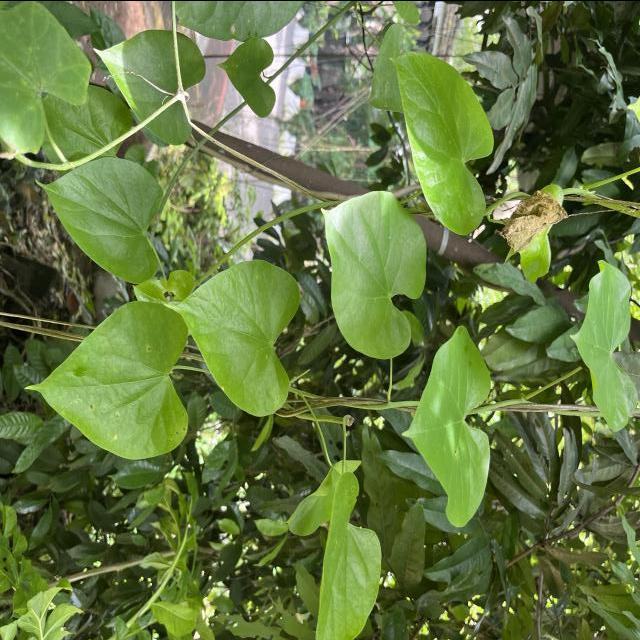Tinospora cordifolia: (21, 297, 193, 463), (159, 256, 304, 419), (386, 44, 497, 238), (398, 320, 494, 530), (318, 187, 430, 362), (30, 154, 166, 286), (566, 256, 640, 433)
